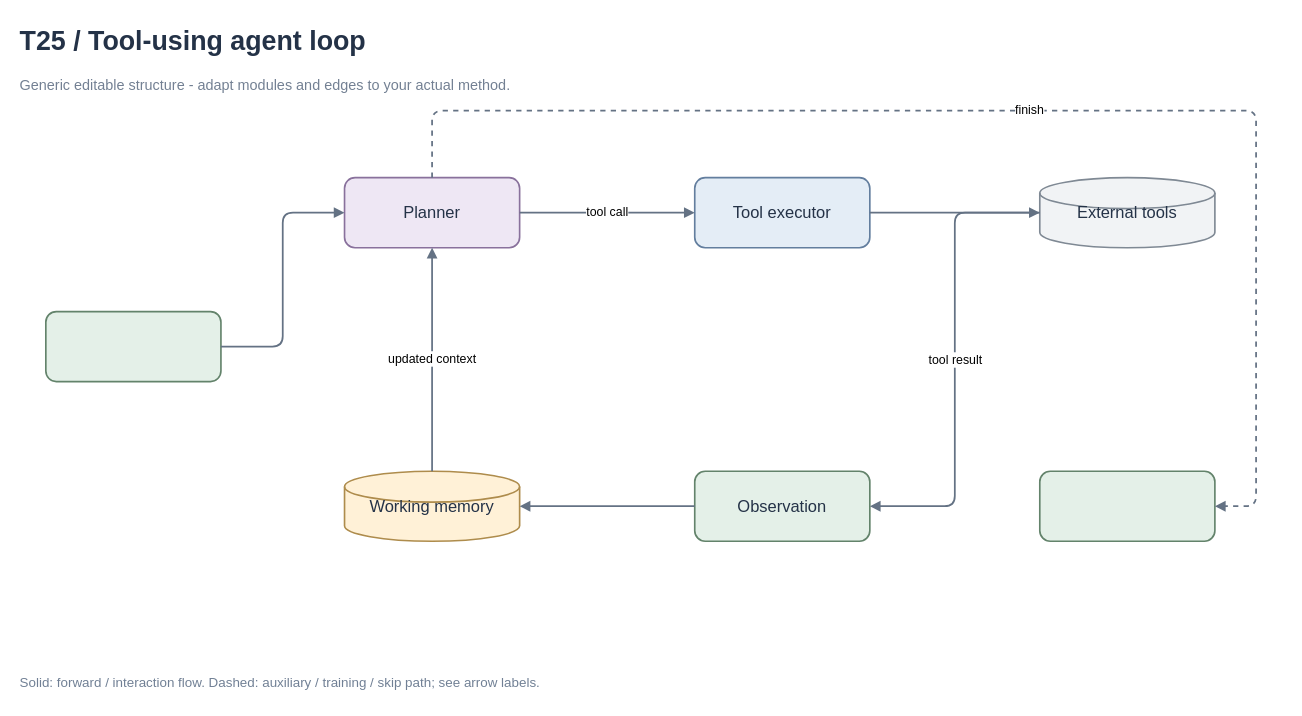
Image size: 1302x716. Some labels were removed from this diagram. The shapes that lost their labels are listed below. From the top down, each one's centre as x and y in pixels, then its label:
At (132,346): "Task + context".
At (1126,506): "Final answer".
